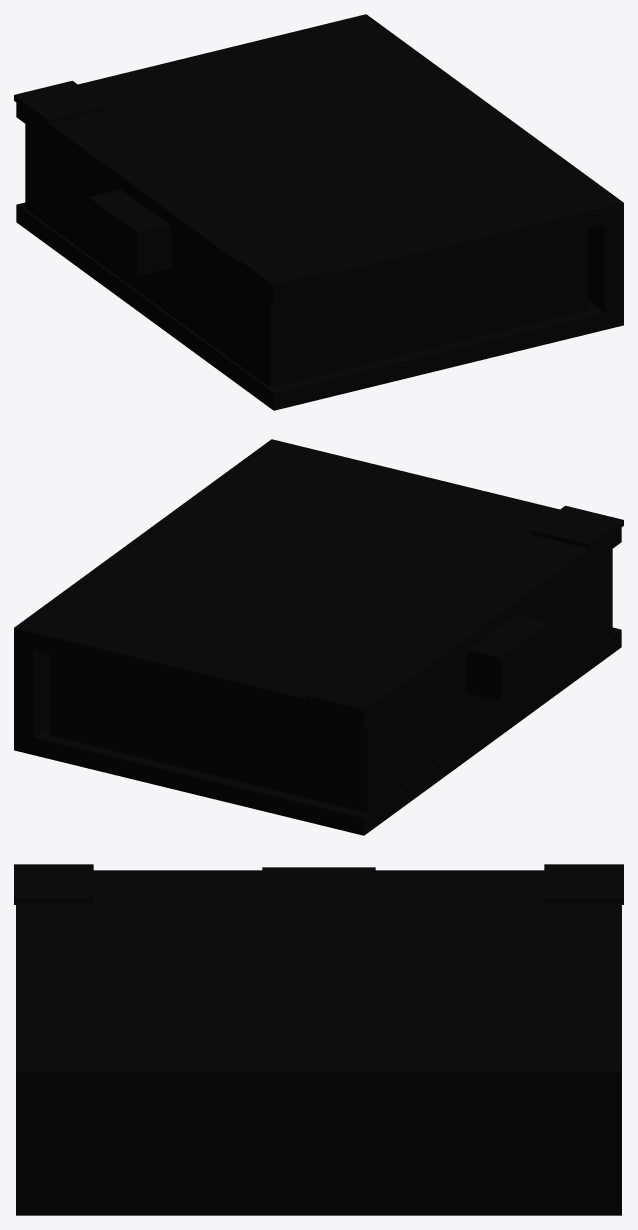
Rendered from SM_grimoire.fbx.
3 views of the same model, one above another, from view 1: azimuth 30°, elevation 25°; view 2: azimuth 150°, elevation 25°; view 3: azimuth 270°, elevation 25° (orthographic). The views are drawn at different scales.
Visible parts, largest first — view 1: grimoire_cover, grimoire; view 2: grimoire_cover, grimoire; view 3: grimoire_cover, grimoire.
Part boxes in pixels (x1,y1,x2,y2): grimoire_cover: [14, 18, 604, 305]; grimoire: [16, 14, 623, 410]; grimoire_cover: [29, 443, 623, 730]; grimoire: [14, 439, 621, 835]; grimoire_cover: [14, 864, 623, 1062]; grimoire: [16, 1060, 621, 1215].
Bounding box in the file's own units: 0.274 × 0.087 × 0.322.
